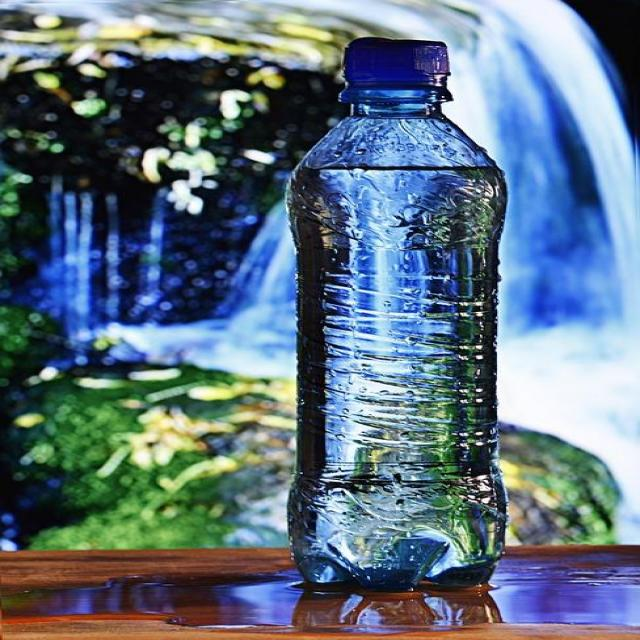bottle: (284, 27, 516, 600)
